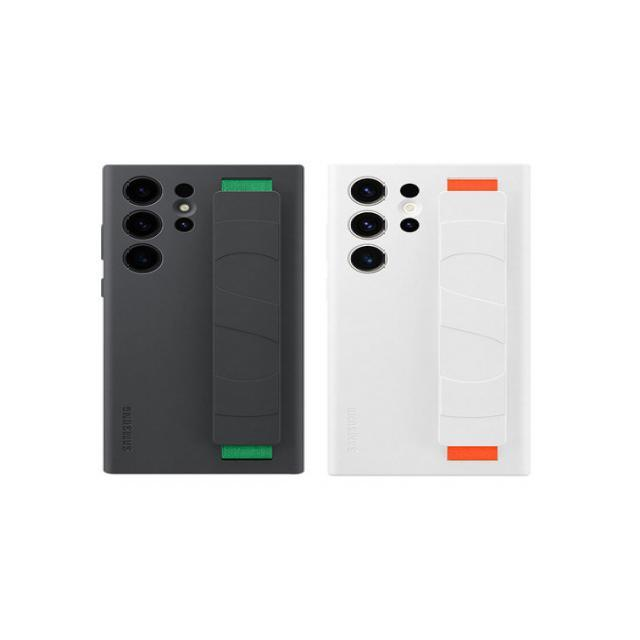phone: (326, 163, 532, 476), (99, 165, 305, 475)
